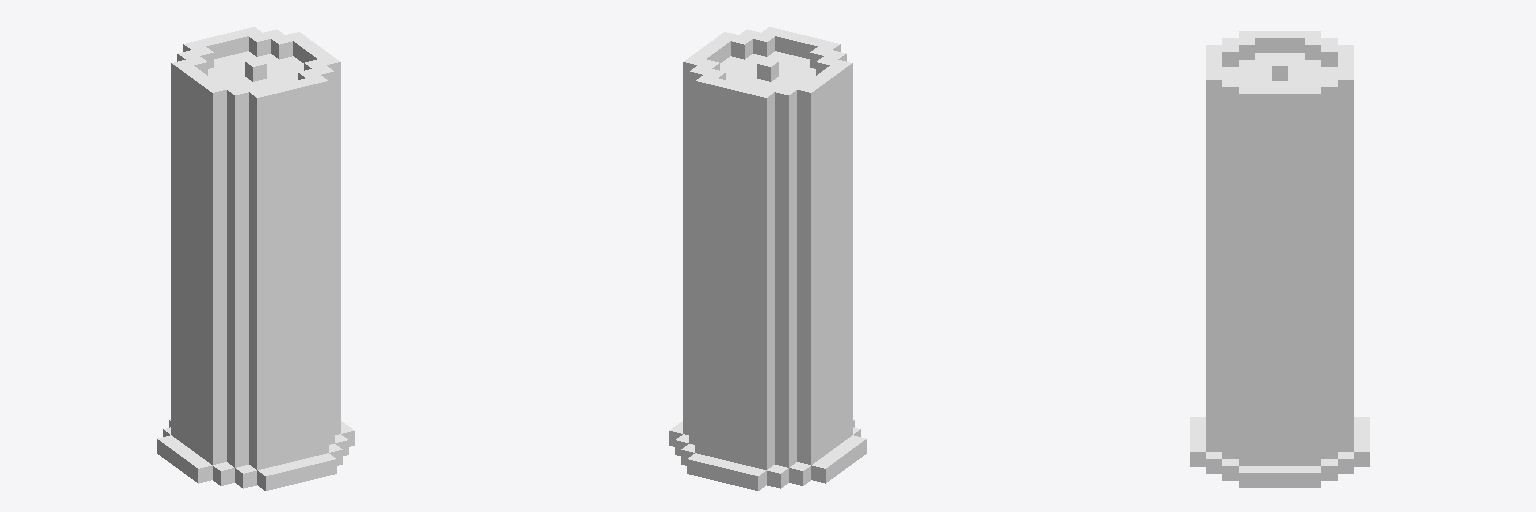
File: 12gage.obj
3 views of the same model, side by side, from view 1: azimuth 30°, elevation 25°; view 2: azimuth 150°, elevation 25°; view 3: azimuth 270°, elevation 25° (orthographic).
Parts seen in each view (by area): view 1: object 1; view 2: object 1; view 3: object 1.
Part boxes in pixels (x1,y1,x2,y2): object 1: (157,27,354,490); object 1: (669,27,866,490); object 1: (1190,31,1369,487).
Size of the model in its own units: 1.1 by 2.6 by 1.1.